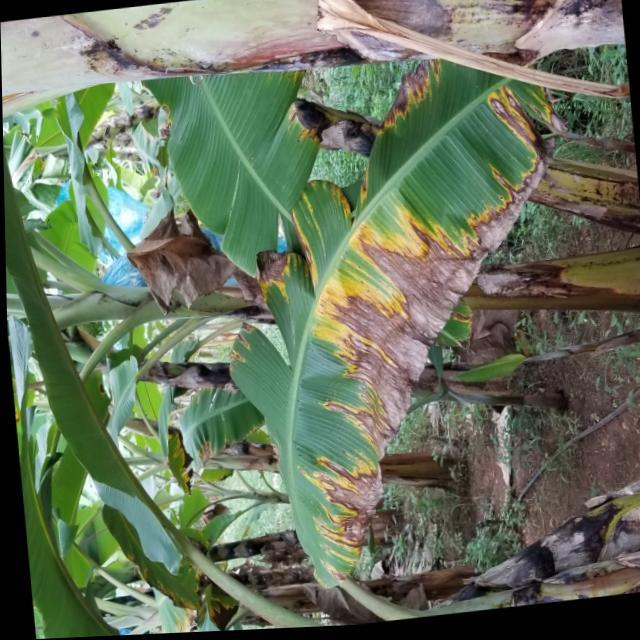Early_rust: (209, 33, 578, 620), (139, 90, 184, 153)
